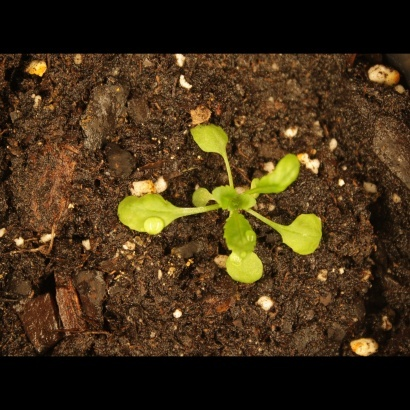leaf: (114, 191, 194, 239), (246, 154, 307, 198), (281, 207, 327, 264), (220, 209, 266, 264), (185, 115, 237, 163), (221, 249, 269, 288), (212, 183, 239, 210), (191, 188, 214, 211), (236, 191, 259, 214)
